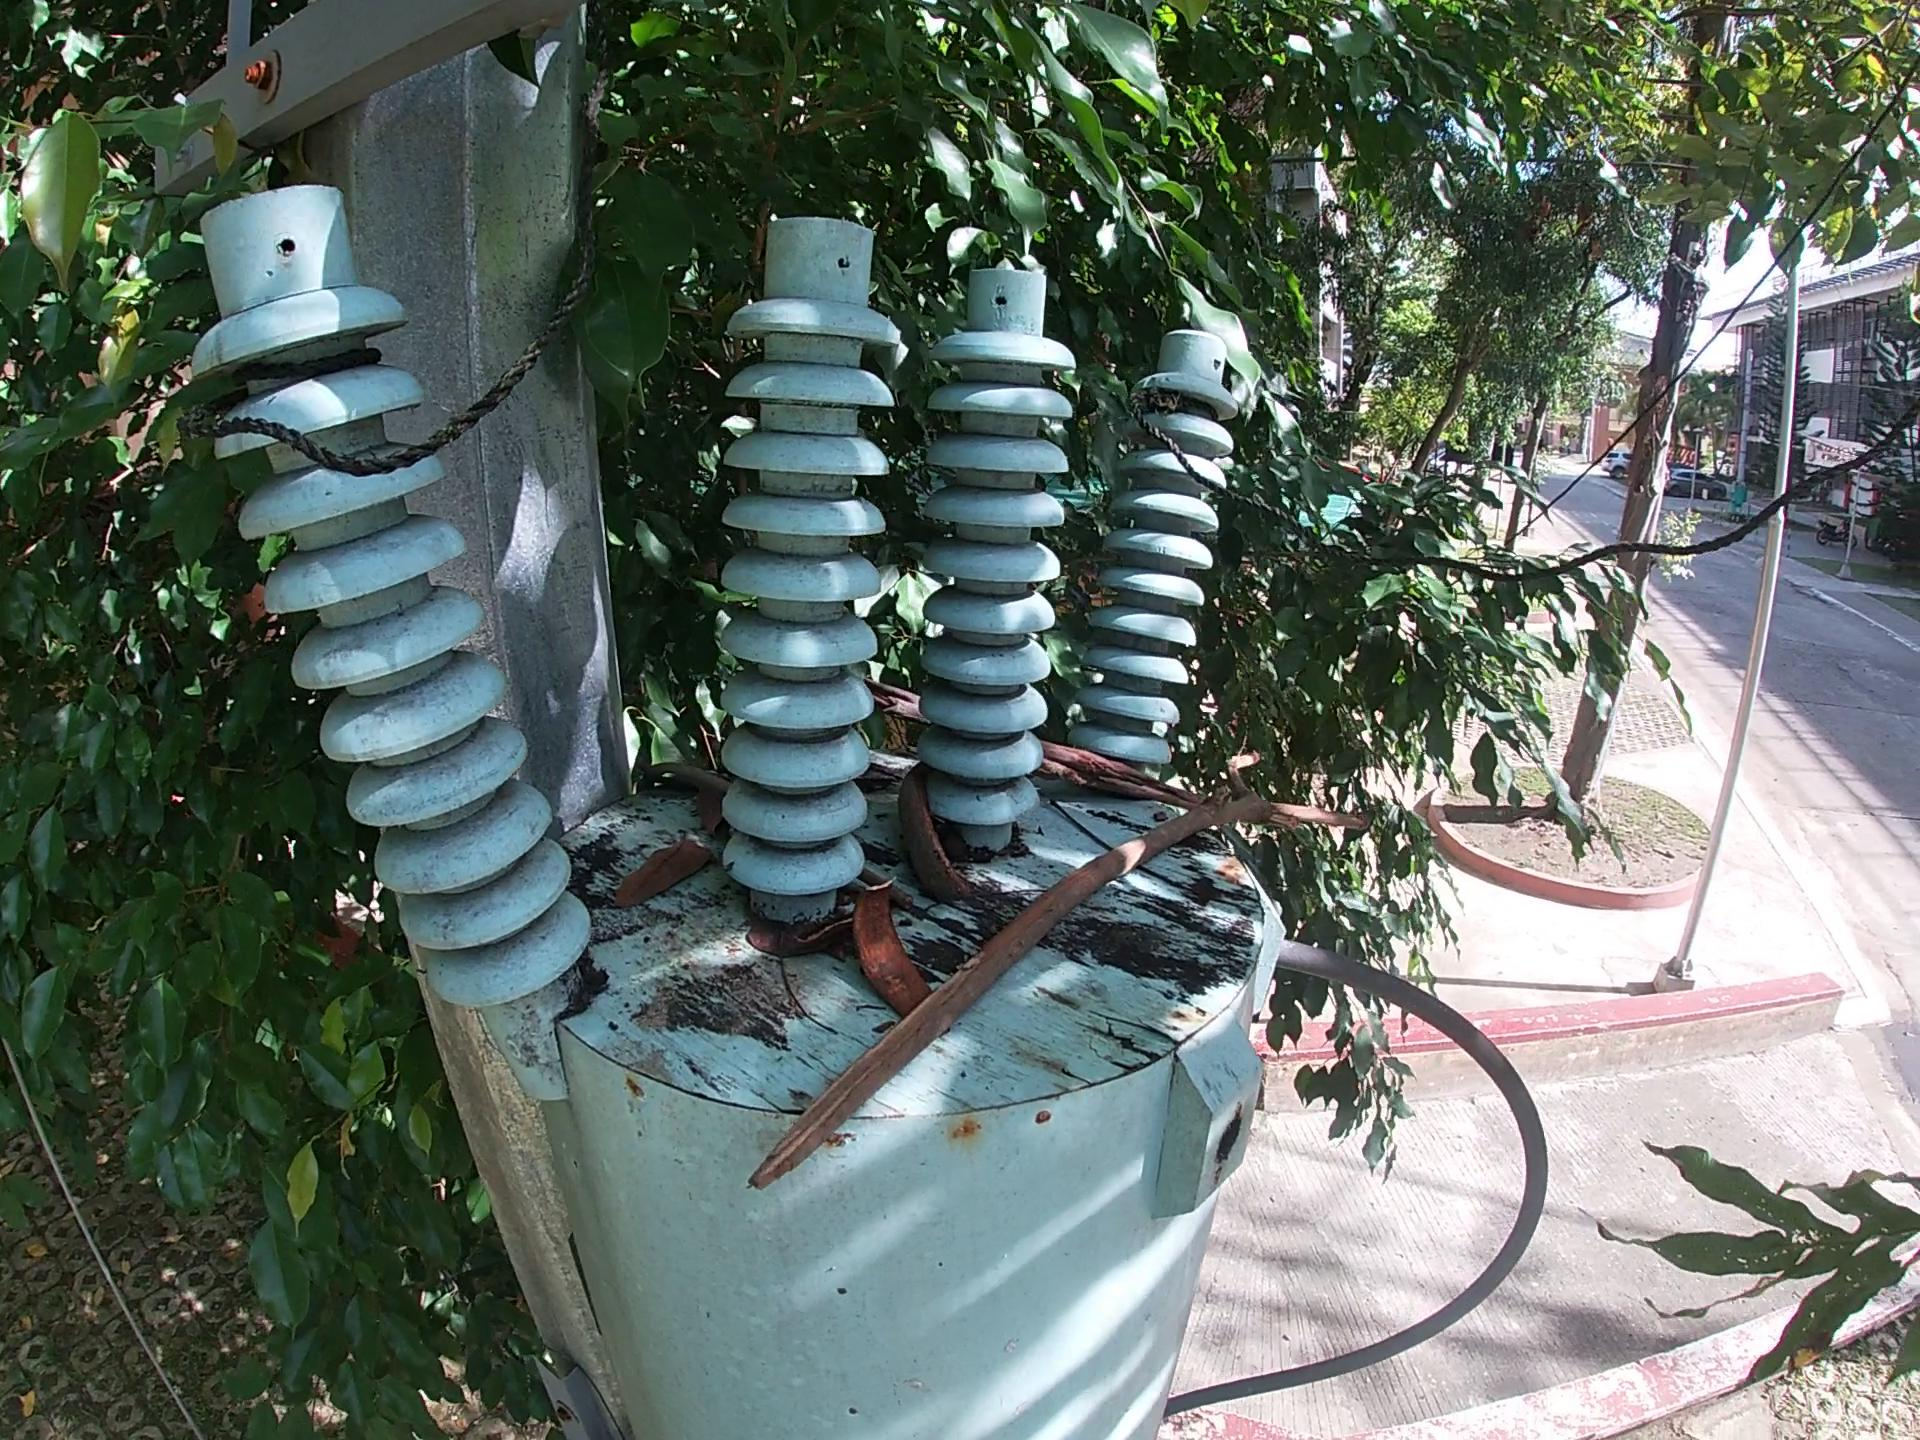leaf: (612, 830, 724, 911), (735, 917, 819, 965), (691, 781, 732, 839)
mahogany fruit: (893, 756, 977, 911), (853, 871, 937, 1023)
tree branch: (742, 746, 1382, 1196), (856, 675, 1215, 814), (633, 758, 739, 797), (860, 864, 918, 905)
